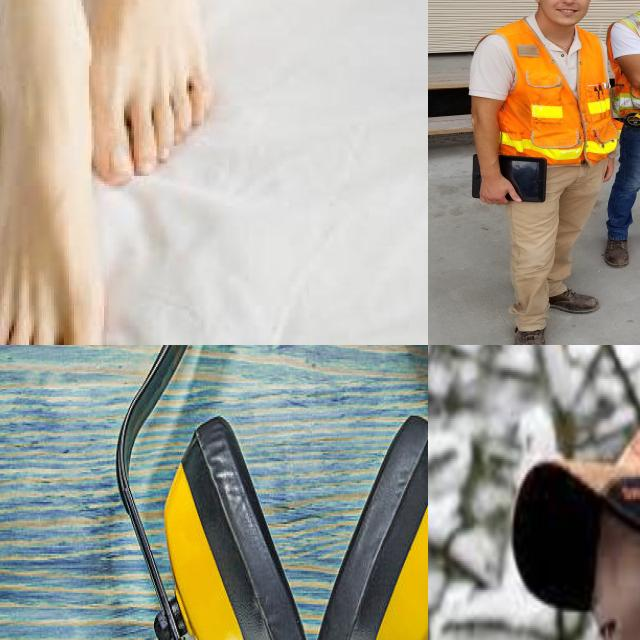Barefoots: (0, 44, 103, 345), (90, 0, 235, 197)
Ear-protection: (82, 345, 428, 640), (518, 374, 640, 640)
No_Glasses: (587, 542, 640, 640)
face_nomask: (464, 165, 528, 206), (529, 0, 594, 25)
person: (477, 0, 610, 337), (605, 0, 640, 265)
vest: (476, 16, 626, 178), (607, 15, 640, 111)
